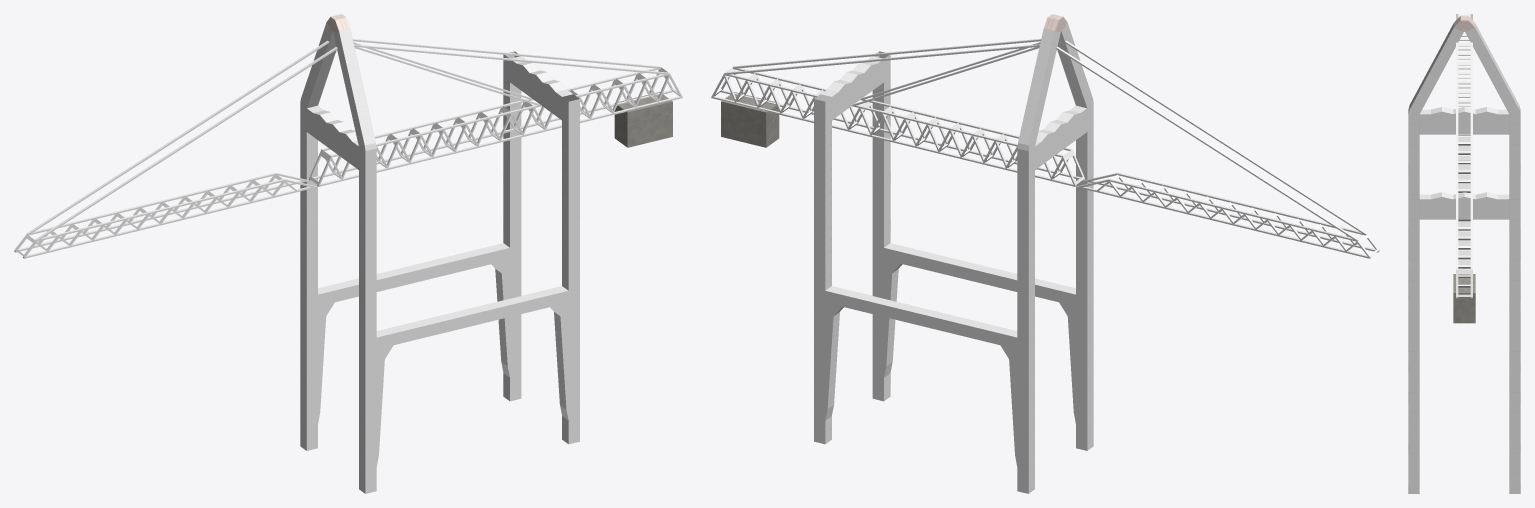
Rendered from crane.obj.
3 renders of one model, left to right at view 1: azimuth 30°, elevation 25°; view 2: azimuth 150°, elevation 25°; view 3: azimuth 270°, elevation 25°, orthographic. The views are drawn at different scales.
Parts seen in each view (by area): view 1: Cube, Cube.001, Cube.009, Cube.004, Cube.008, Plane, Cube.002, Cube.006, Cube.003, Cube.005, Cube.007; view 2: Cube, Cube.001, Cube.009, Cube.004, Cube.008, Plane, Cube.002, Cube.006, Cube.003, Cube.005, Cube.007; view 3: Cube, Cube.009, Cube.001, Cube.006, Plane, Cube.002.
Boxes of the visible parts, x1=… form: Cube: x1=300, y1=51, x2=579, y2=493; Cube.001: x1=309, y1=67, x2=682, y2=185; Cube.009: x1=300, y1=14, x2=376, y2=151; Cube.004: x1=14, y1=172, x2=317, y2=258; Cube.008: x1=26, y1=40, x2=337, y2=240; Plane: x1=614, y1=92, x2=672, y2=147; Cube.002: x1=14, y1=174, x2=296, y2=257; Cube.006: x1=352, y1=39, x2=669, y2=74; Cube.003: x1=309, y1=90, x2=682, y2=186; Cube.005: x1=322, y1=67, x2=669, y2=157; Cube.007: x1=353, y1=42, x2=540, y2=106; Cube: x1=814, y1=51, x2=1093, y2=493; Cube.001: x1=711, y1=67, x2=1084, y2=185; Cube.009: x1=1017, y1=14, x2=1093, y2=151; Cube.004: x1=1076, y1=172, x2=1379, y2=258; Cube.008: x1=1056, y1=40, x2=1367, y2=241; Plane: x1=721, y1=92, x2=779, y2=147; Cube.002: x1=1097, y1=174, x2=1379, y2=257; Cube.006: x1=724, y1=39, x2=1041, y2=74; Cube.003: x1=711, y1=90, x2=1084, y2=186; Cube.005: x1=724, y1=67, x2=1071, y2=157; Cube.007: x1=853, y1=42, x2=1040, y2=106; Cube: x1=1408, y1=107, x2=1520, y2=493; Cube.009: x1=1408, y1=15, x2=1520, y2=114; Cube.001: x1=1456, y1=136, x2=1472, y2=296; Cube.006: x1=1456, y1=42, x2=1472, y2=269; Plane: x1=1453, y1=274, x2=1475, y2=323; Cube.002: x1=1458, y1=14, x2=1470, y2=135.
Size of the model in its own units: 58.3 by 38.22 by 10.
Materials: 1 (1 with a texture image).
